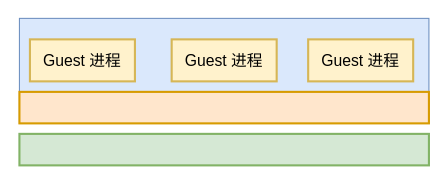
This 447x185 diagram has some shape labels left out. The shapes that lost their labels are listed below. From the top down, each one's centre as x and y in pixels, then its label:
(223,107): Guest 操作系统
(223,149): 二进制翻译器
